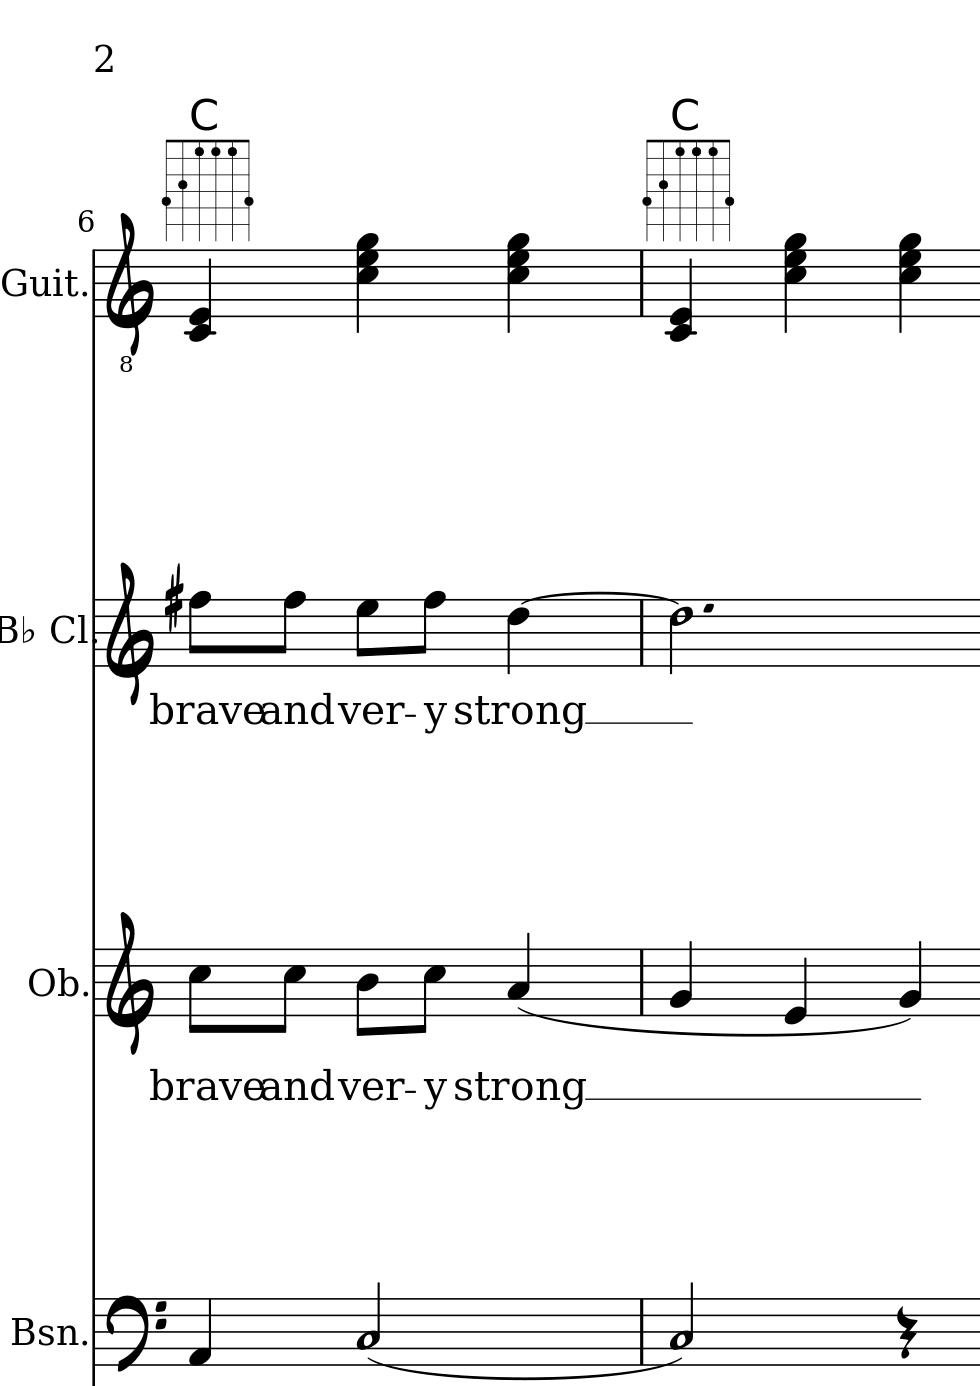2: (92, 42, 115, 74)
2_3: (355, 1280, 382, 1366), (669, 1279, 695, 1366)
2_6: (667, 598, 694, 676)
4_-2_0: (665, 249, 701, 343), (183, 248, 218, 343)
4_0: (781, 946, 809, 1027)
4_1: (186, 1297, 213, 1368)
4_2: (668, 938, 694, 1017), (897, 938, 923, 1017)
4_3: (505, 931, 531, 1017)
4_6: (505, 597, 530, 676)
4_th: (503, 230, 530, 333), (780, 231, 807, 333), (895, 230, 921, 334), (353, 230, 379, 333)
6: (77, 207, 94, 234)
8_4: (354, 947, 380, 1038)
8_5: (273, 946, 307, 1036), (415, 947, 447, 1036), (186, 946, 213, 1036)
8_7: (354, 597, 380, 668)
8_8: (270, 589, 304, 668), (412, 589, 444, 669), (186, 589, 211, 669)
Bsn: (8, 1313, 78, 1353)
Cl: (48, 611, 87, 646)
Fclef: (105, 1294, 171, 1373)
Fretboard: (155, 135, 261, 246), (638, 135, 737, 242)
Gclef: (102, 909, 157, 1058), (103, 560, 154, 705)
Guit: (2, 264, 78, 303)
Lower_Gclef: (104, 210, 155, 374)
Ob: (27, 963, 78, 1003)
Rests4: (894, 1305, 918, 1361)
Sharp: (162, 562, 183, 633)
Single_barline: (633, 600, 652, 666), (633, 251, 649, 317), (634, 1298, 650, 1364), (634, 949, 649, 1015), (87, 1299, 101, 1366), (88, 949, 101, 1018), (87, 250, 100, 318), (89, 598, 100, 668)
Slur: (517, 1008, 909, 1038), (521, 587, 681, 606)
dot: (699, 600, 717, 616)
